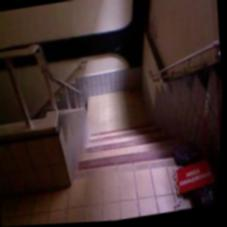Animal: (66, 111, 191, 184)
